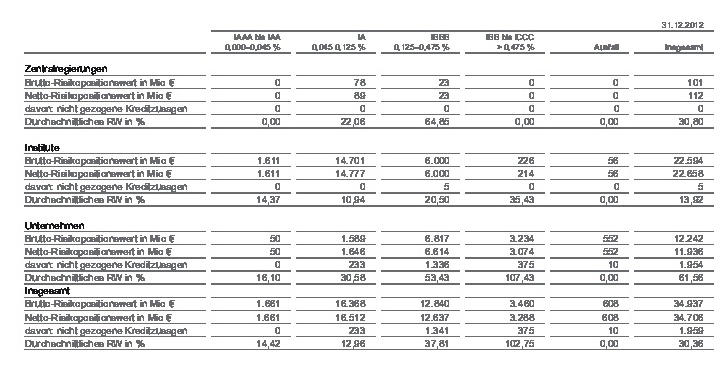table: (0, 0, 727, 371)
